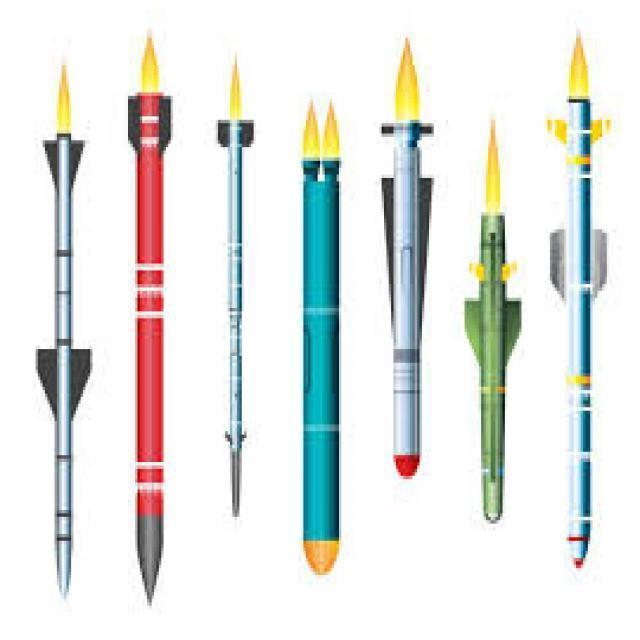Missile: (540, 29, 624, 573), (22, 126, 101, 587), (368, 121, 445, 490), (293, 154, 351, 584)
